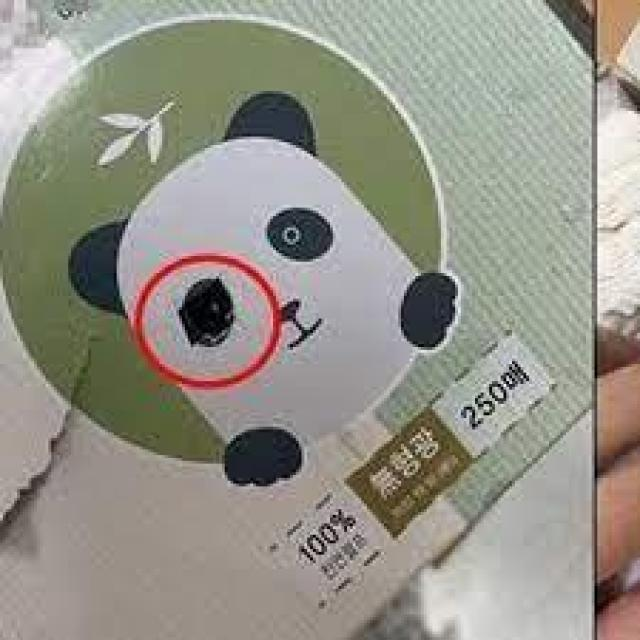hidden camera: (159, 269, 253, 359)
